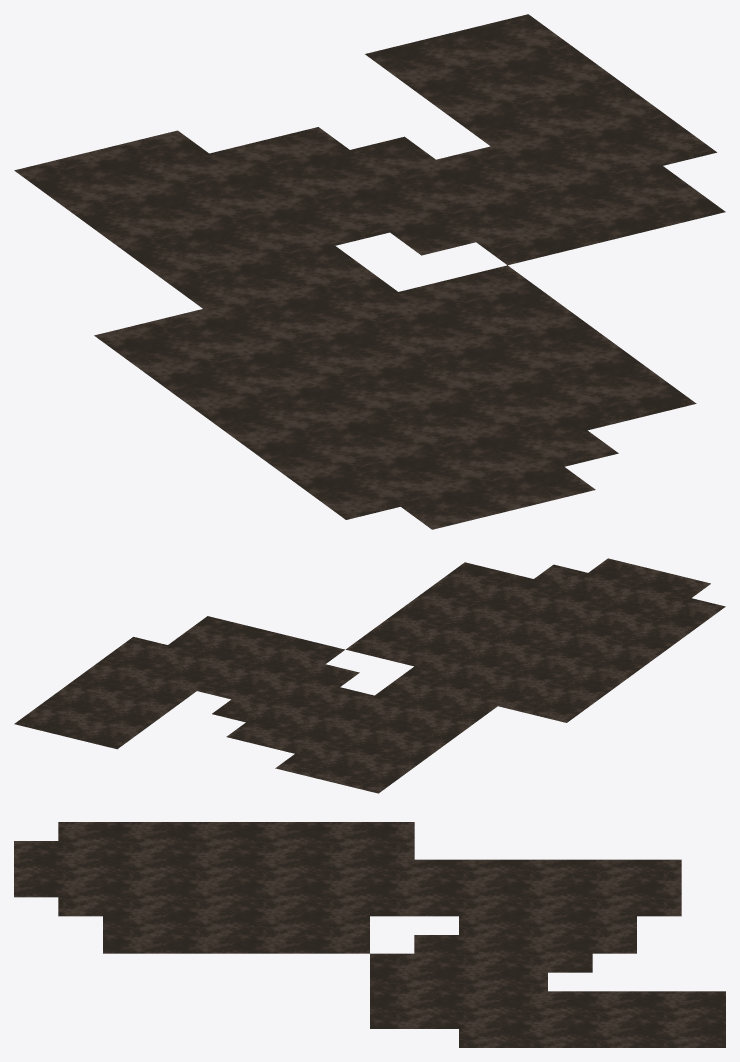
The model's file is floor_3_-5.glb.
The picture shows the model from 3 angles, top to bottom: view 1: azimuth 30°, elevation 25°; view 2: azimuth 150°, elevation 25°; view 3: azimuth 270°, elevation 25°; orthographic projection. The views are drawn at different scales.
Visible parts, largest first — view 1: floor_3_-5; view 2: floor_3_-5; view 3: floor_3_-5.
Boxes of the visible parts, <box> form: floor_3_-5: <box>14,14,725,529</box>; floor_3_-5: <box>14,558,725,793</box>; floor_3_-5: <box>14,822,725,1047</box>.
Size of the model in its own units: 48 by 0 by 64.
Materials: 1 (1 with a texture image).
